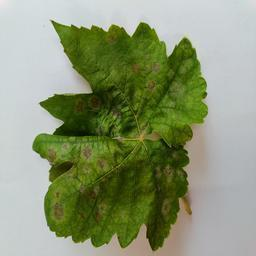Powdery-Mildew: (165, 74, 204, 119), (132, 56, 164, 89), (76, 146, 104, 179), (51, 194, 69, 226), (47, 143, 77, 161), (101, 135, 117, 152), (156, 197, 173, 213), (107, 32, 123, 48)
